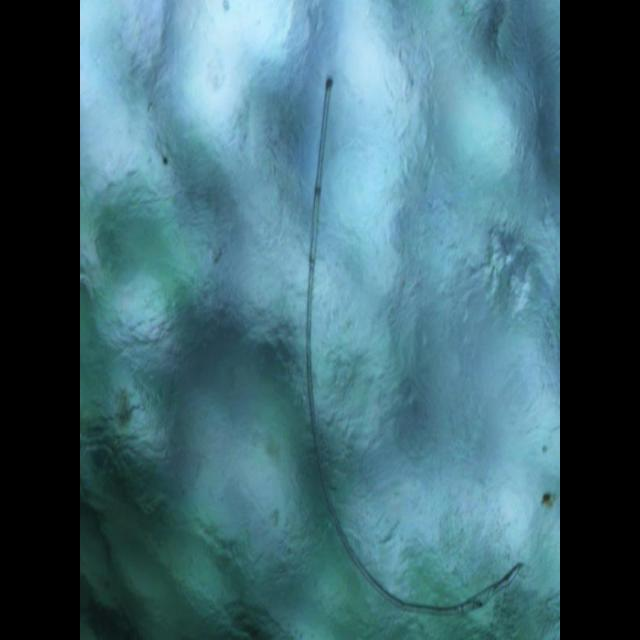Fibre: (304, 74, 524, 616)
